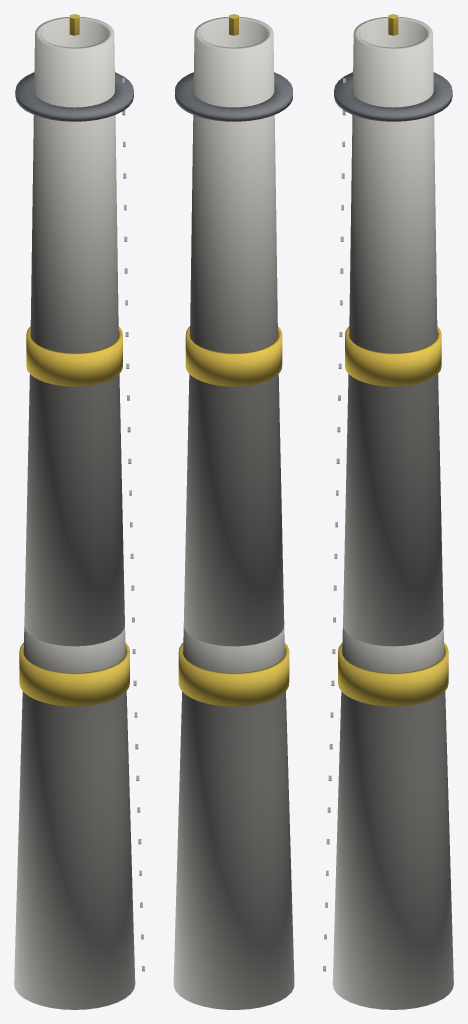
The model's file is 05_vent_stack.glb.
3 renders of one model, left to right at view 1: azimuth 90°, elevation 25°; view 2: azimuth 150°, elevation 25°; view 3: azimuth 270°, elevation 25°, orthographic.
Visible parts, largest first — view 1: vent_stack_concretepale, vent_stack_warning, vent_stack_steeldark, vent_stack_steel_nocol; view 2: vent_stack_concretepale, vent_stack_warning, vent_stack_steeldark; view 3: vent_stack_concretepale, vent_stack_warning, vent_stack_steeldark, vent_stack_steel_nocol.
Boxes of the visible parts, x1,y1,x2,y2 form: vent_stack_concretepale: (14, 17, 135, 1009); vent_stack_warning: (19, 326, 129, 706); vent_stack_steeldark: (15, 72, 133, 121); vent_stack_steel_nocol: (122, 78, 144, 971); vent_stack_concretepale: (173, 16, 294, 1009); vent_stack_warning: (178, 326, 289, 706); vent_stack_steeldark: (175, 72, 292, 121); vent_stack_concretepale: (332, 17, 453, 1009); vent_stack_warning: (338, 326, 448, 706); vent_stack_steeldark: (334, 72, 452, 121); vent_stack_steel_nocol: (323, 78, 345, 971).
Bounding box in the file's own units: 11.91 × 105 × 12.85.
